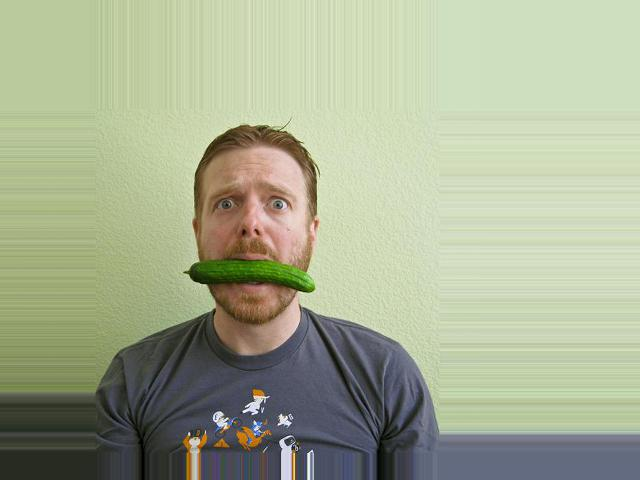cucumber: (183, 259, 316, 293)
